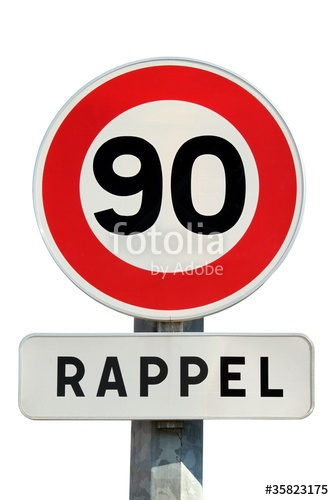Speed_limit_90km: (29, 55, 306, 321)
